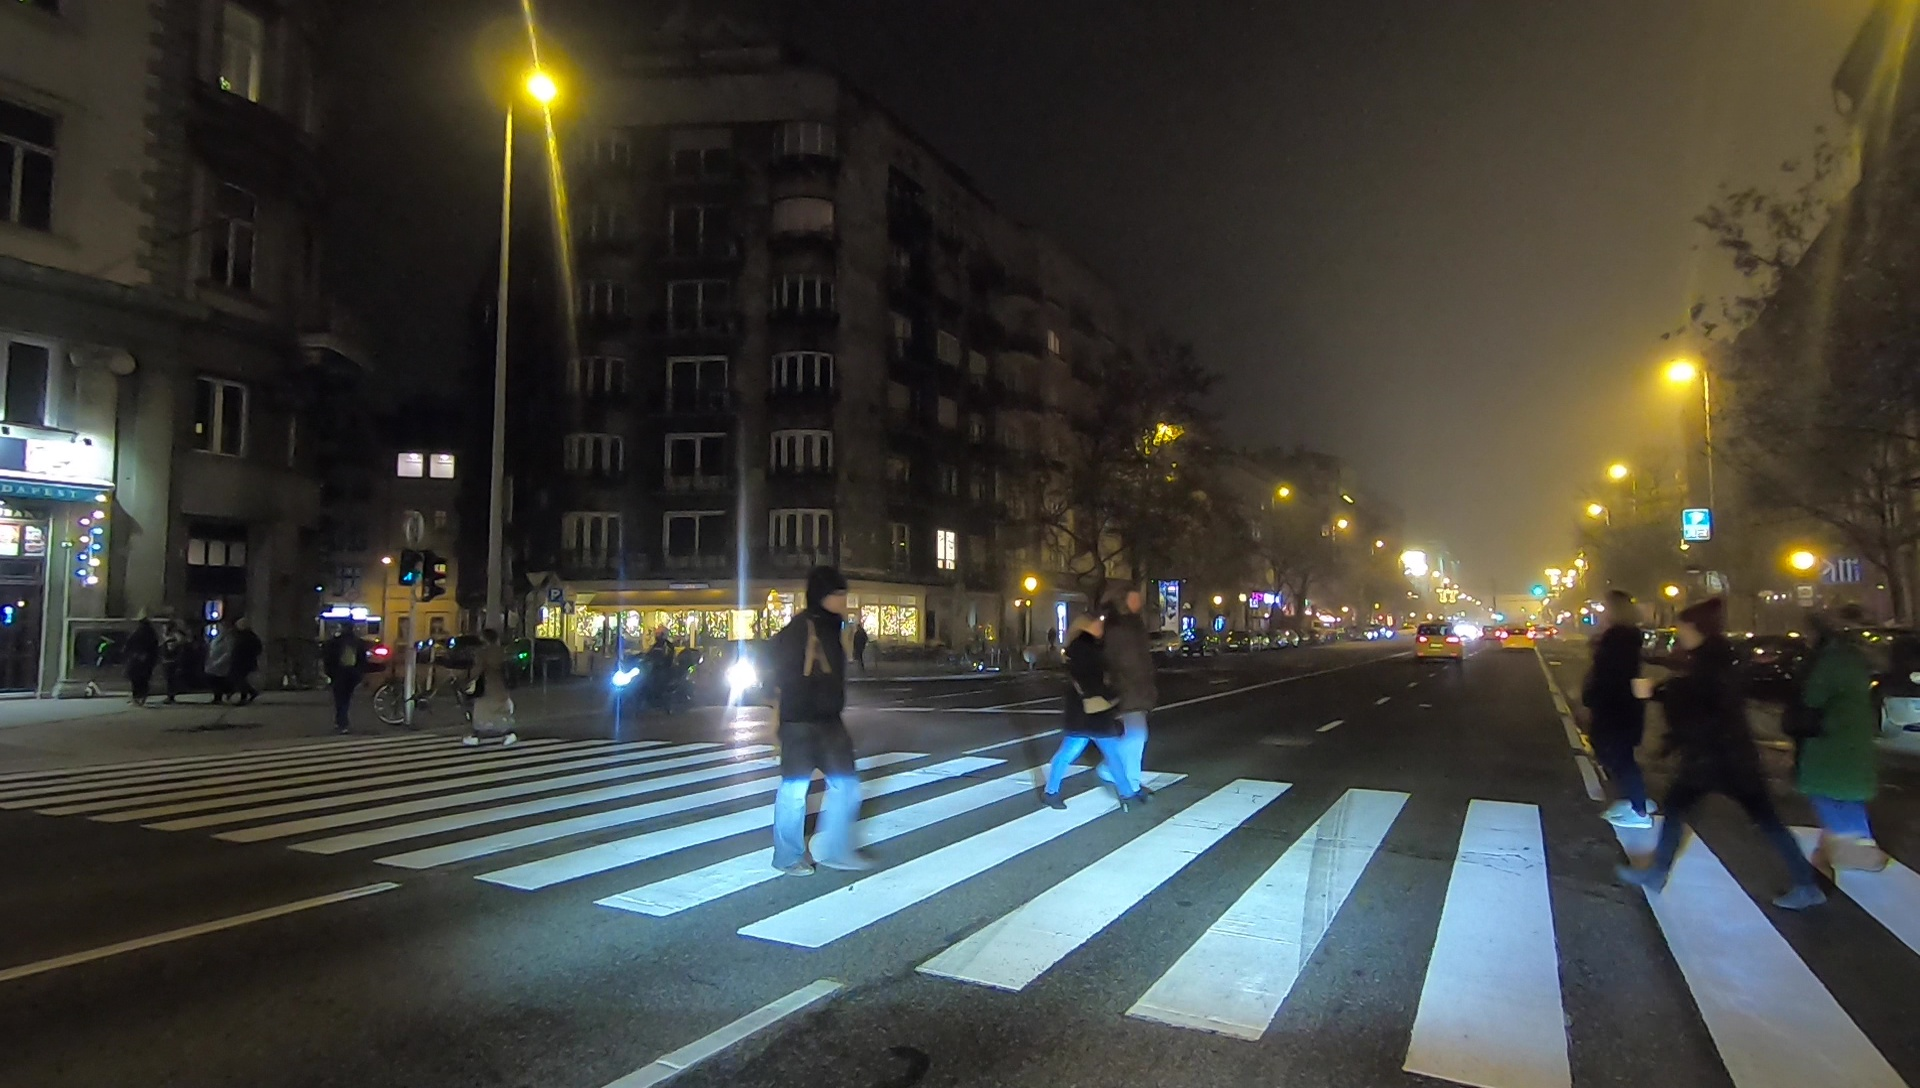person: (1632, 595, 1821, 902), (765, 573, 878, 874), (1797, 608, 1891, 889), (1045, 599, 1145, 813), (1580, 589, 1660, 832), (1093, 587, 1175, 799), (465, 623, 519, 752), (326, 617, 364, 724), (158, 608, 189, 702), (132, 604, 160, 702), (210, 611, 239, 702), (238, 617, 264, 702)
